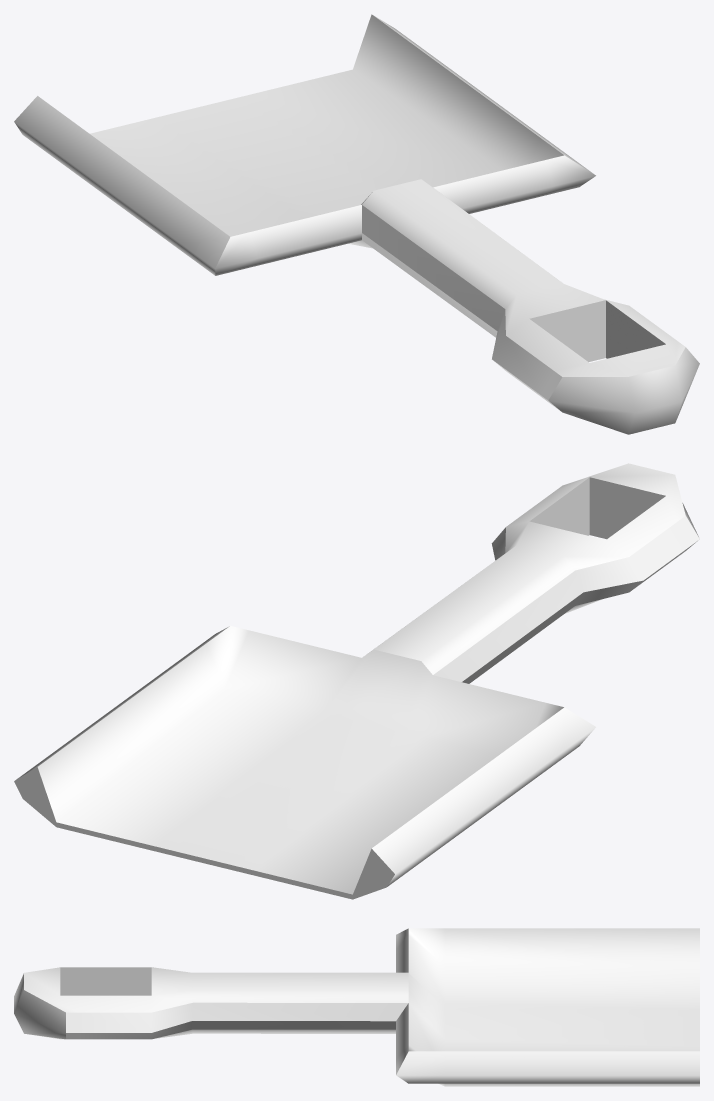
The model's file is shovel.fbx.
3 views of the same model, one above another, from view 1: azimuth 30°, elevation 25°; view 2: azimuth 150°, elevation 25°; view 3: azimuth 270°, elevation 25° (orthographic). The views are drawn at different scales.
Parts seen in each view (by area): view 1: shovel; view 2: shovel; view 3: shovel.
Part boxes in pixels (bbox=[...]): shovel: bbox=[14, 14, 699, 434]; shovel: bbox=[14, 463, 699, 899]; shovel: bbox=[14, 928, 699, 1086].
Bounding box in the file's own units: 9.87 × 1.66 × 20.36.
